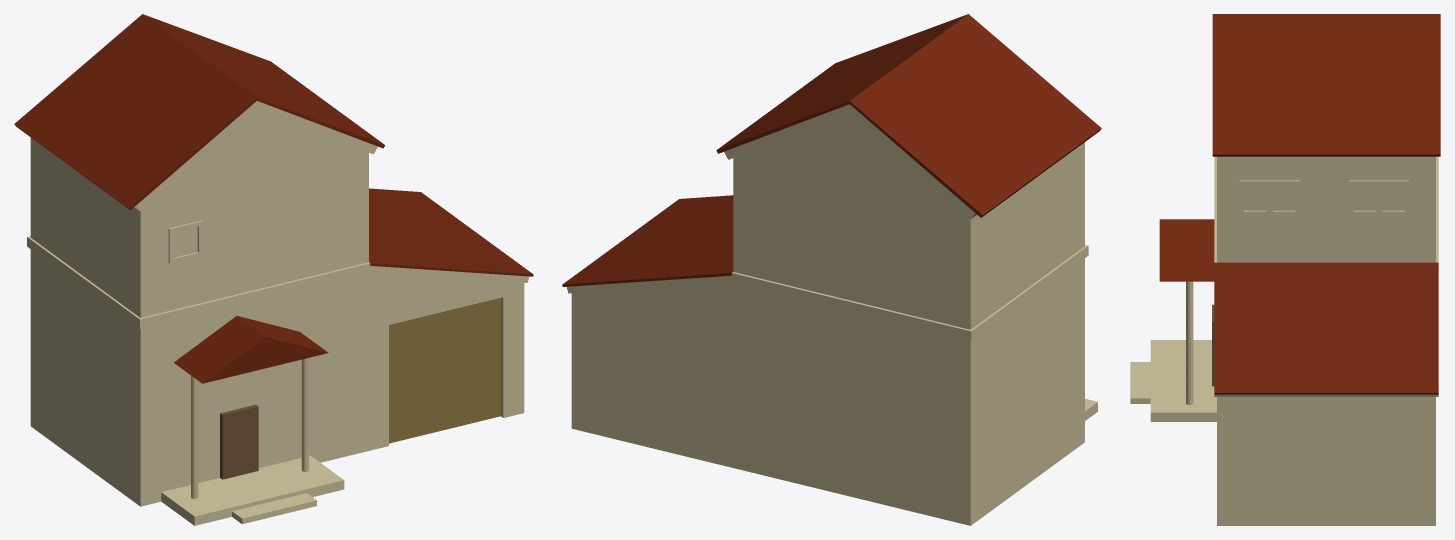
File: urban.dae
3 views of the same model, side by side, from view 1: azimuth 30°, elevation 25°; view 2: azimuth 150°, elevation 25°; view 3: azimuth 270°, elevation 25° (orthographic). The views are drawn at different scales.
Parts seen in each view (by area): view 1: House, DoorStep, FrontDoor; view 2: House; view 3: House, DoorStep.
Boxes of the visible parts, left/top/right/bottom form: House: left=14, top=14, right=533, bottom=506; DoorStep: left=161, top=455, right=344, bottom=525; FrontDoor: left=220, top=404, right=258, bottom=479; House: left=562, top=14, right=1101, bottom=525; House: left=1159, top=14, right=1440, bottom=525; DoorStep: left=1130, top=340, right=1216, bottom=421.
Bounding box in the file's own units: 4.26 × 2.83 × 3.9.
